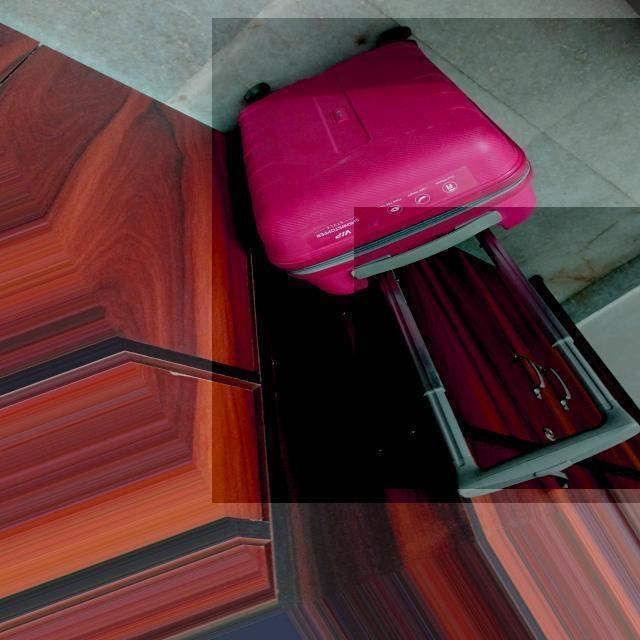Suitcase: (225, 28, 640, 499)
